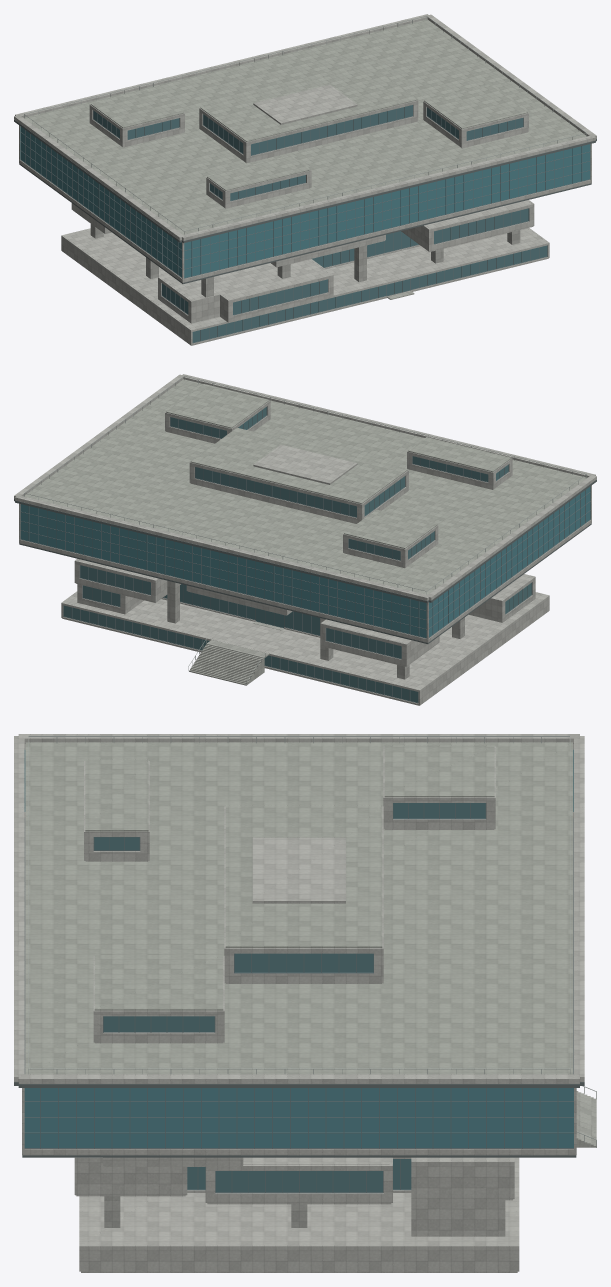
3 renders of one model, top to bottom at view 1: azimuth 30°, elevation 25°; view 2: azimuth 150°, elevation 25°; view 3: azimuth 270°, elevation 25°, orthographic. The views are drawn at different scales.
Parts seen in each view (by area): view 1: osm942763731__roof, osm942763731__wall-panel, osm942763731__glass, osm942763731__lower_glass, osm942763731__frame, osm942763731__soffit, osm942763731__metal, osm942763731__column; view 2: osm942763731__roof, osm942763731__wall-panel, osm942763731__glass, osm942763731__lower_glass, osm942763731__frame, osm942763731__soffit, osm942763731__stairs, osm942763731__metal, osm942763731__column; view 3: osm942763731__roof, osm942763731__wall-panel, osm942763731__glass, osm942763731__lower_glass, osm942763731__frame, osm942763731__soffit, osm942763731__metal, osm942763731__stairs, osm942763731__column.
Boxes of the visible parts, x1=… form: osm942763731__roof: x1=23, y1=19, x2=586, y2=234; osm942763731__wall-panel: x1=14, y1=14, x2=596, y2=345; osm942763731__glass: x1=20, y1=126, x2=590, y2=277; osm942763731__lower_glass: x1=93, y1=105, x2=547, y2=342; osm942763731__frame: x1=20, y1=105, x2=590, y2=343; osm942763731__soffit: x1=14, y1=119, x2=596, y2=283; osm942763731__metal: x1=24, y1=16, x2=586, y2=234; osm942763731__column: x1=90, y1=224, x2=520, y2=297; osm942763731__roof: x1=24, y1=379, x2=587, y2=594; osm942763731__wall-panel: x1=14, y1=374, x2=596, y2=705; osm942763731__glass: x1=20, y1=486, x2=590, y2=637; osm942763731__lower_glass: x1=63, y1=407, x2=531, y2=702; osm942763731__frame: x1=20, y1=406, x2=590, y2=703; osm942763731__soffit: x1=14, y1=479, x2=596, y2=643; osm942763731__stairs: x1=189, y1=640, x2=269, y2=685; osm942763731__metal: x1=24, y1=376, x2=586, y2=685; osm942763731__column: x1=167, y1=580, x2=464, y2=679; osm942763731__roof: x1=25, y1=742, x2=572, y2=1074; osm942763731__wall-panel: x1=14, y1=734, x2=584, y2=1272; osm942763731__glass: x1=24, y1=749, x2=573, y2=1147; osm942763731__lower_glass: x1=94, y1=803, x2=485, y2=1192; osm942763731__frame: x1=24, y1=803, x2=573, y2=1193; osm942763731__soffit: x1=14, y1=818, x2=584, y2=1157; osm942763731__metal: x1=28, y1=736, x2=596, y2=1147; osm942763731__stairs: x1=576, y1=1091, x2=596, y2=1147; osm942763731__column: x1=104, y1=1196, x2=307, y2=1227.
Bounding box in the file's own units: 87.24 × 30.2 × 62.34.
Materials: 11 (6 with a texture image).
